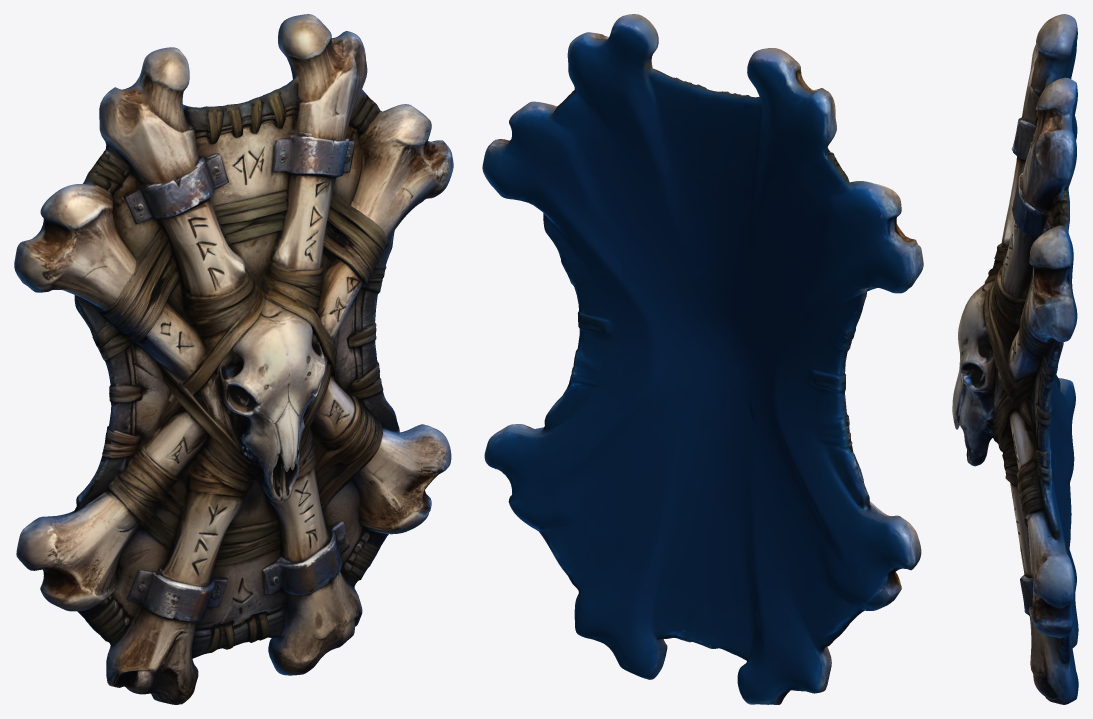
Rendered from escudo.glb.
The picture shows the model from 3 angles, left to right: view 1: azimuth 30°, elevation 25°; view 2: azimuth 150°, elevation 25°; view 3: azimuth 270°, elevation 25°; orthographic projection. The views are drawn at different scales.
Visible parts, largest first — view 1: material; view 2: material; view 3: material.
Part boxes in pixels (x1=…): material: x1=14, y1=14, x2=453, y2=704; material: x1=482, y1=14, x2=923, y2=704; material: x1=952, y1=14, x2=1078, y2=704.
Size of the model in its own units: 0.8005 by 1.16 by 0.2118.
Materials: 1 (1 with a texture image).
